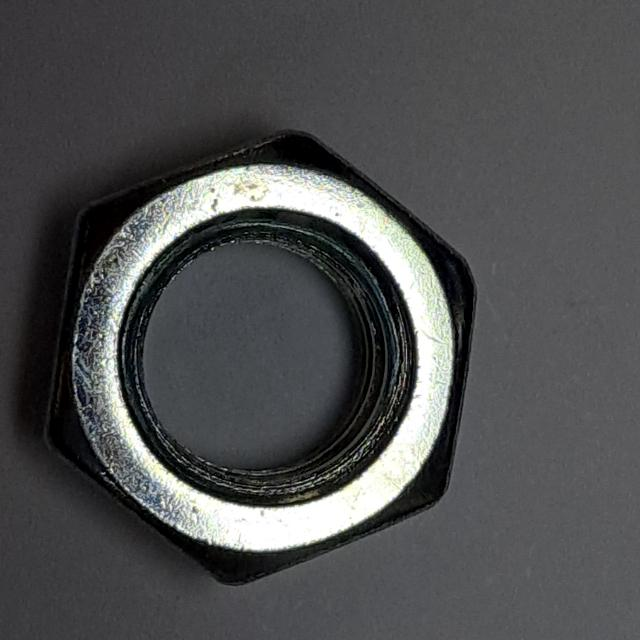Excellent: (29, 113, 491, 599)
